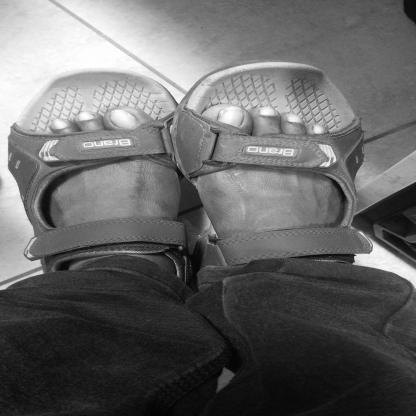ankle: (124, 255, 133, 261), (279, 248, 286, 253)
heel: (167, 285, 175, 288), (212, 287, 218, 291)
left_foot: (9, 72, 192, 297)
pinky: (336, 146, 349, 157), (29, 144, 36, 151)
right_foot: (198, 66, 366, 314)
toe: (231, 111, 243, 116), (118, 112, 125, 116)
